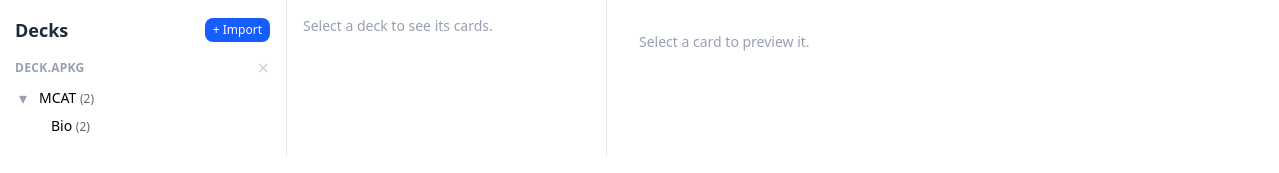
Scenario: Flashcards page › disables the Study button and labels it "Nothing to study" when all counts are zero
Step 1. Click the button "Bio (2)" → (156, 126), box left=43, top=112, right=270, bottom=140
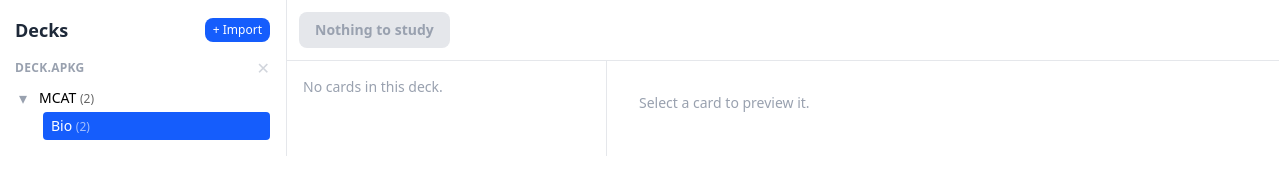
Result: the button "Nothing to study" is disabled at left=299, top=12, right=450, bottom=48
